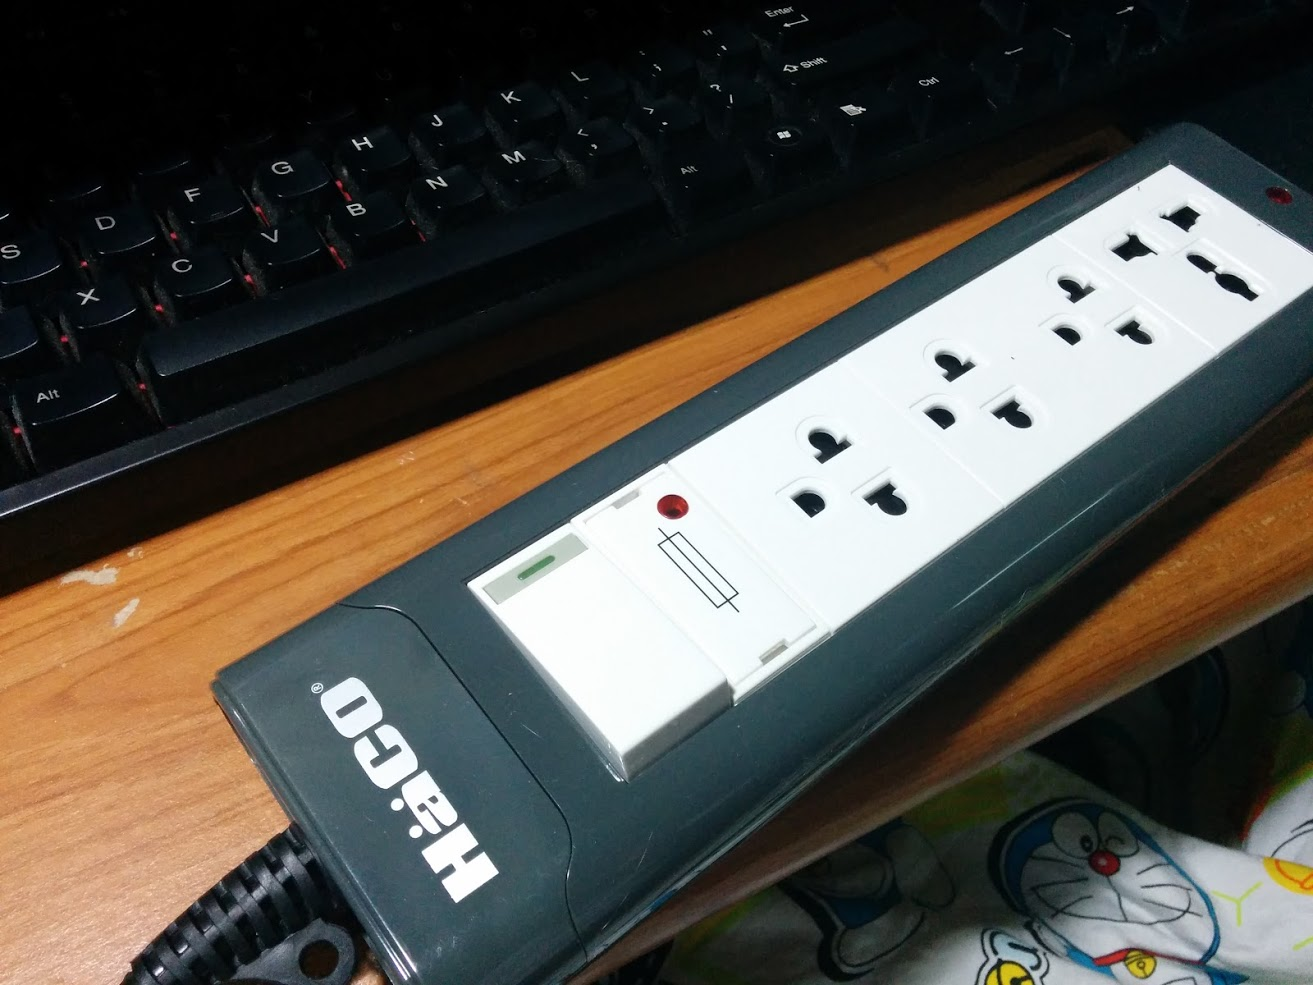Three_eye_plug: (203, 95, 1313, 985)
